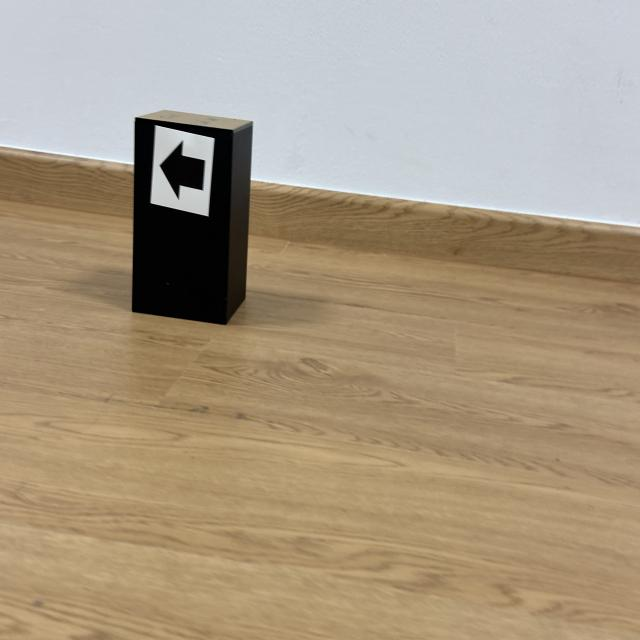LEFT: (160, 142, 205, 198)
